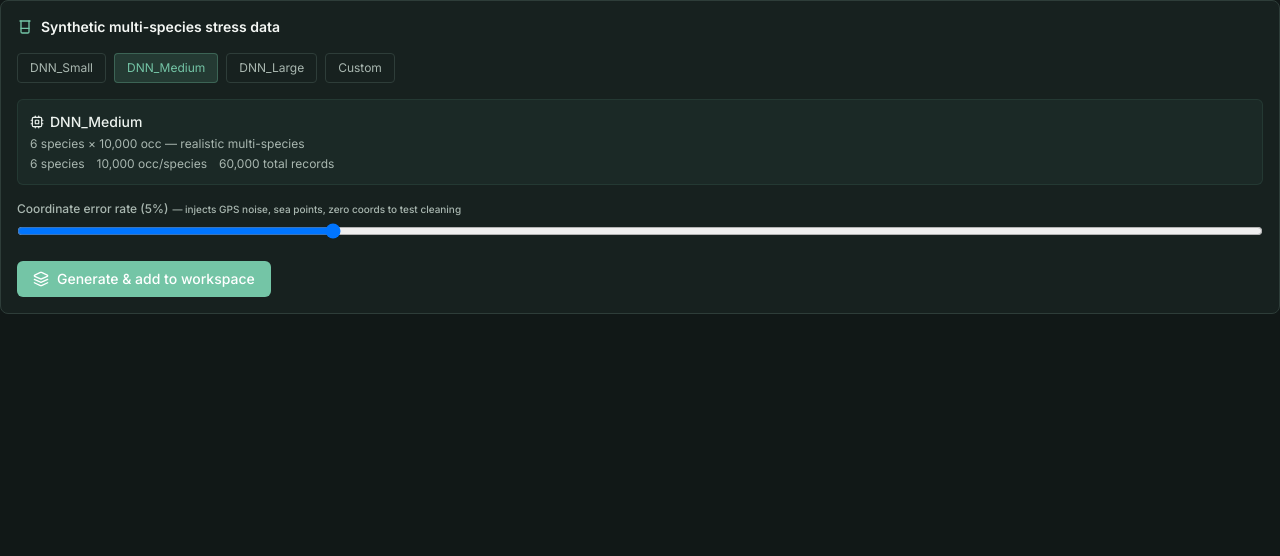
Scenario: SyntheticStressPanel workspace completion feedback › preserves generated asset details but reports workspace-add failure
Click the button "DNN_Small" at (62, 68), box [17, 53, 106, 83]
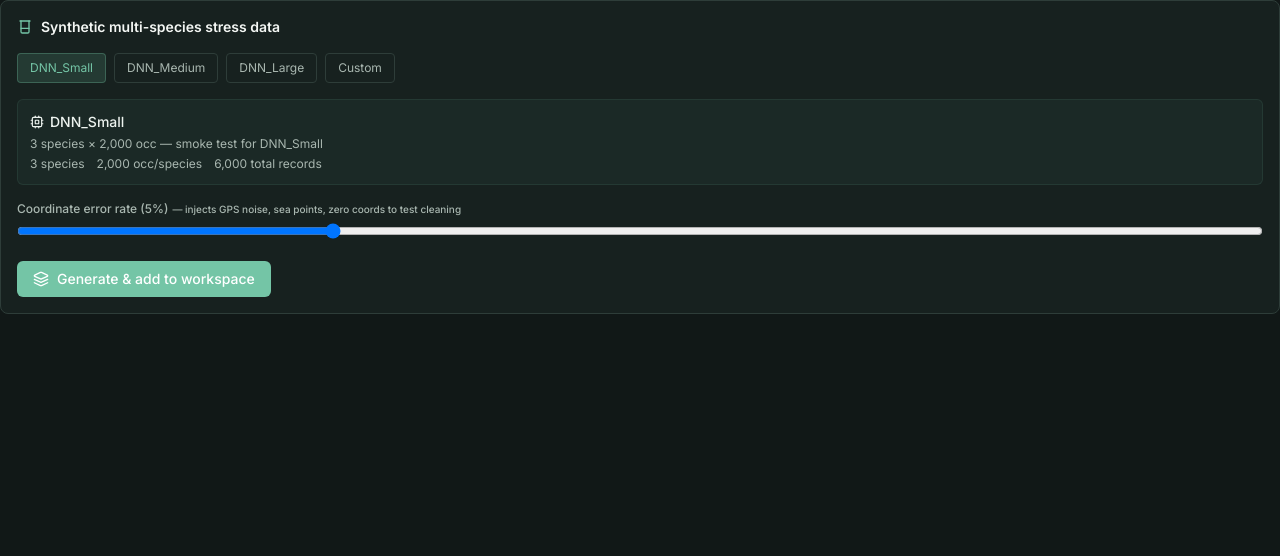
Click the button "Generate & add to workspace" at (144, 279), box [17, 261, 271, 297]
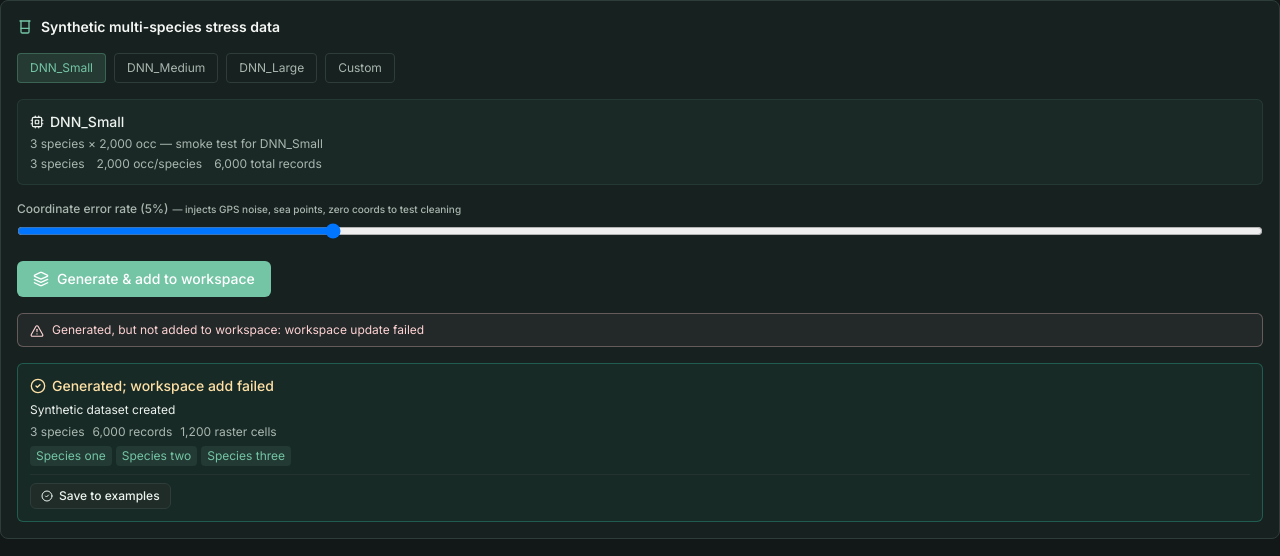
Expected: the text "Generated, but not added to workspace: workspace update failed" is shown, [52, 322, 424, 338]
Expected: the text "Synthetic dataset created" is shown, [30, 402, 175, 417]
Expected: the text "3 species" is shown 2 times, [30, 156, 85, 172]; [30, 424, 85, 440]
